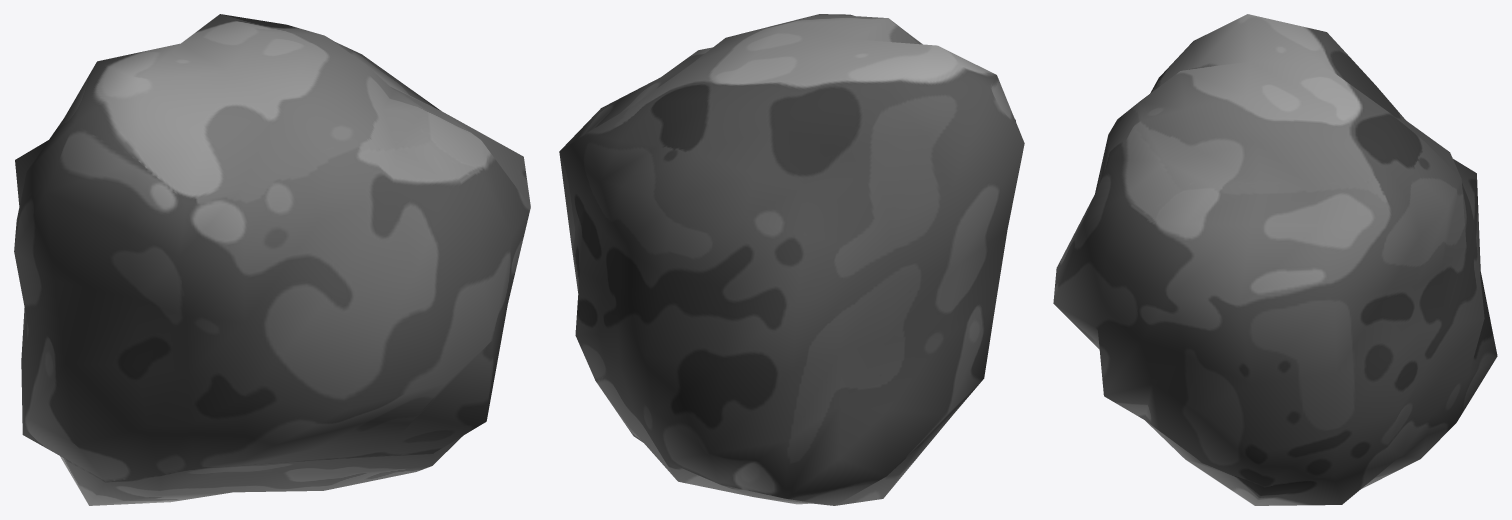
The model's file is Rock_Mesh_3.FBX.
The picture shows the model from 3 angles, left to right: view 1: azimuth 30°, elevation 25°; view 2: azimuth 150°, elevation 25°; view 3: azimuth 270°, elevation 25°; orthographic projection. The views are drawn at different scales.
Parts seen in each view (by area): view 1: rockLP001; view 2: rockLP001; view 3: rockLP001.
Part boxes in pixels (box(x1,y1,x2,y2)): rockLP001: box(14, 14, 530, 505); rockLP001: box(559, 14, 1024, 505); rockLP001: box(1053, 14, 1497, 505).
Bounding box in the file's own units: 2.6 × 2.57 × 2.57.
Materials: 1 (1 with a texture image).
